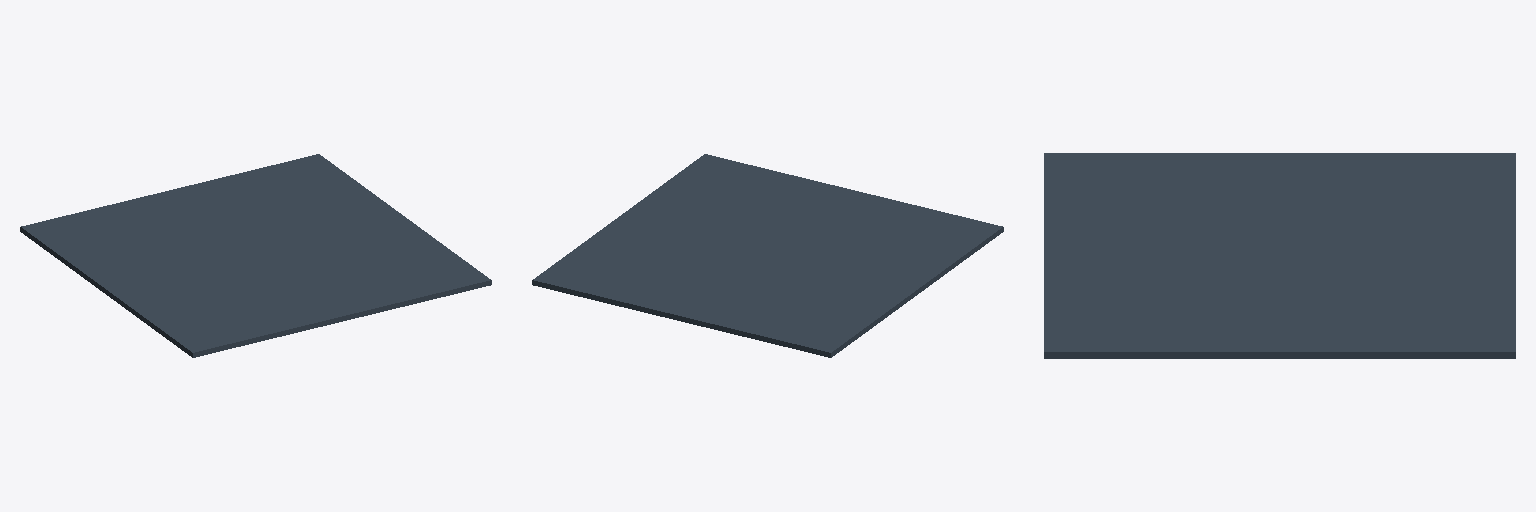
URDF robot description (floor):
<?xml version="1.0"?>
<!-- A floor, 6 x 6 m. Its frame is the centre of its top surface. -->
<robot name="floor">
  <material name="floor"><color rgba="0.3 0.35 0.4 1" /></material>
  <link name="floor">
    <visual>
      <origin xyz="0 0 -0.05" />
      <geometry><box size="6 6 0.1" /></geometry>
      <material name="floor" />
    </visual>
    <collision>
      <origin xyz="0 0 -0.05" />
      <geometry><box size="6 6 0.1" /></geometry>
    </collision>
  </link>
</robot>

--- What the picture shows (computed from the rendered views, not written in the file) ---
The picture shows the robot from 3 angles, left to right: view 1: azimuth 30°, elevation 25°; view 2: azimuth 150°, elevation 25°; view 3: azimuth 270°, elevation 25°; orthographic projection.
Robot: floor — 1 links, 0 joints (none); root link floor; default pose: every joint at zero.
Visible links, largest first — view 1: floor; view 2: floor; view 3: floor.
Link boxes in pixels (box(x1,y1,x2,y2)): floor: box(20, 154, 491, 357); floor: box(532, 154, 1003, 357); floor: box(1044, 153, 1515, 358).
Size in the robot's own frame: 6 by 6 by 0.1 metres.
Geometry: primitives only (box / cylinder / sphere), no mesh files.
